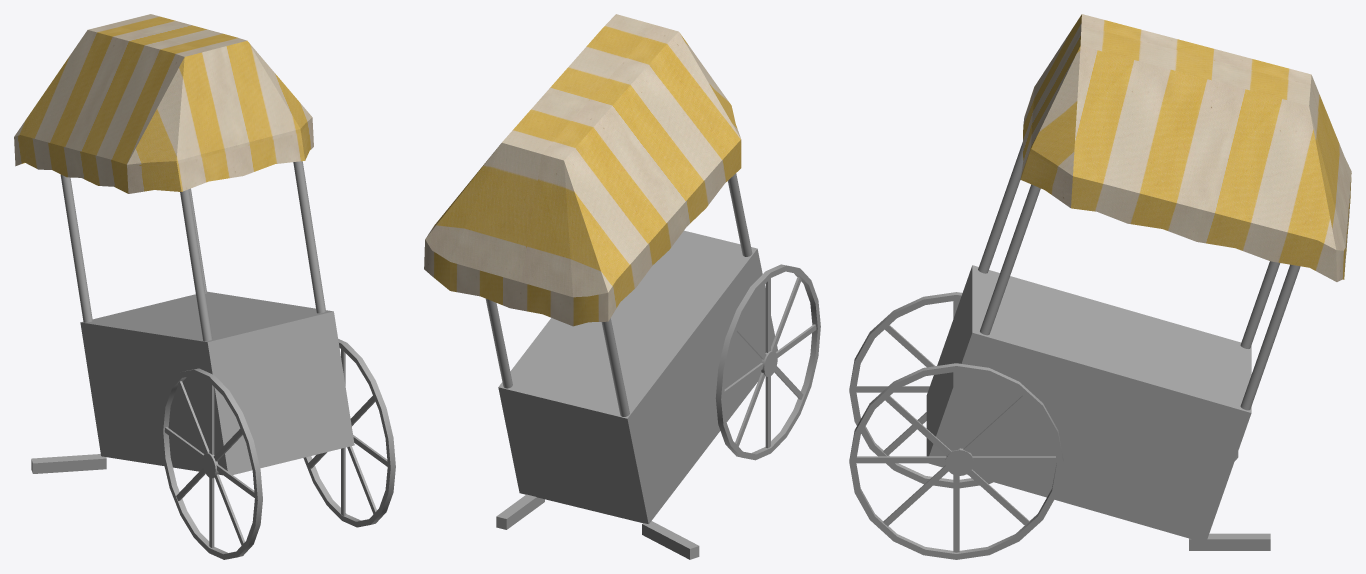
The model's file is food_cart.fbx.
The picture shows the model from 3 angles, left to right: view 1: azimuth 30°, elevation 25°; view 2: azimuth 150°, elevation 25°; view 3: azimuth 270°, elevation 25°; orthographic projection. The views are drawn at different scales.
Parts seen in each view (by area): view 1: polySurface1, pCube12, polySurface3, polySurface2; view 2: pCube12, polySurface1, polySurface3, polySurface2; view 3: pCube12, polySurface1, polySurface3, polySurface2.
Boxes of the visible parts, <box> form: polySurface1: <box>31,291,354,475</box>; pCube12: <box>14,14,313,193</box>; polySurface3: <box>160,339,395,559</box>; polySurface2: <box>60,161,325,341</box>; pCube12: <box>424,14,741,326</box>; polySurface1: <box>496,230,777,559</box>; polySurface3: <box>715,264,820,460</box>; polySurface2: <box>485,173,752,416</box>; pCube12: <box>1020,14,1351,281</box>; polySurface1: <box>926,265,1270,550</box>; polySurface3: <box>849,292,1063,559</box>; polySurface2: <box>978,142,1300,410</box>.
Bounding box in the file's own units: 21.45 × 41.97 × 38.88.
Materials: 2 (1 with a texture image).
